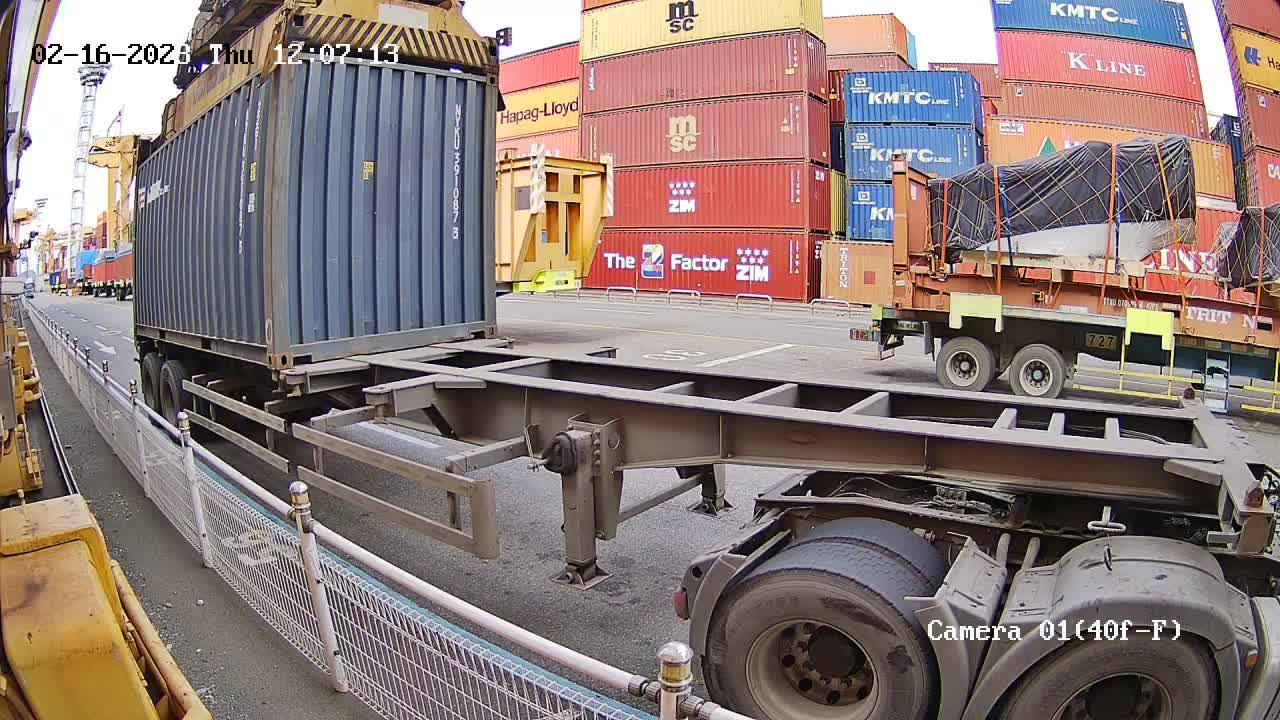Chassis: (283, 338, 515, 373)
Cone: (285, 369, 305, 396), (266, 369, 284, 395)
Hole_L: (278, 328, 319, 368)
Hole_R: (466, 303, 499, 338), (249, 332, 277, 368)
Tire: (708, 570, 929, 717), (1001, 633, 1210, 719), (161, 366, 178, 421), (140, 358, 158, 408)
